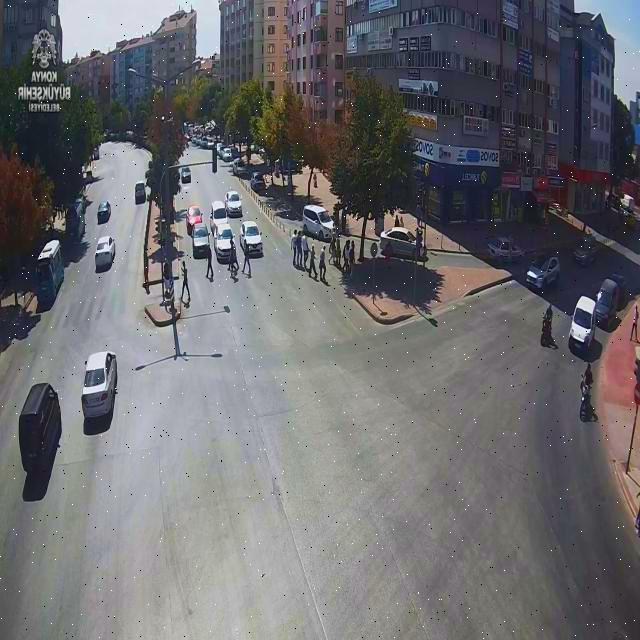car: (19, 382, 61, 501), (81, 352, 118, 434), (569, 296, 596, 352), (595, 278, 620, 329), (526, 255, 560, 291), (302, 205, 335, 240), (381, 226, 416, 258), (488, 236, 525, 259), (214, 224, 234, 263), (240, 221, 262, 256), (96, 236, 115, 272), (192, 222, 210, 259), (210, 201, 228, 232), (186, 205, 202, 234), (225, 191, 241, 217), (98, 200, 111, 223), (135, 181, 146, 203), (180, 166, 191, 184)
motorcyclist: (579, 362, 598, 422), (540, 305, 558, 348)
pedestrian: (180, 261, 190, 308), (228, 240, 239, 282), (319, 246, 328, 284), (308, 245, 318, 279), (241, 246, 251, 278), (301, 235, 310, 269), (296, 231, 302, 268), (291, 230, 297, 266), (206, 248, 212, 282)
